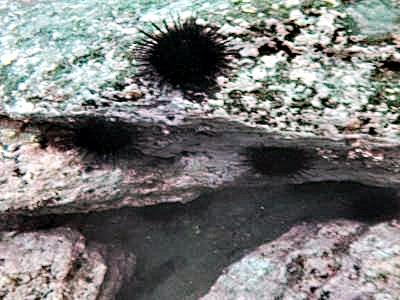urchin: (130, 14, 242, 100), (65, 115, 140, 166), (244, 142, 308, 179)
